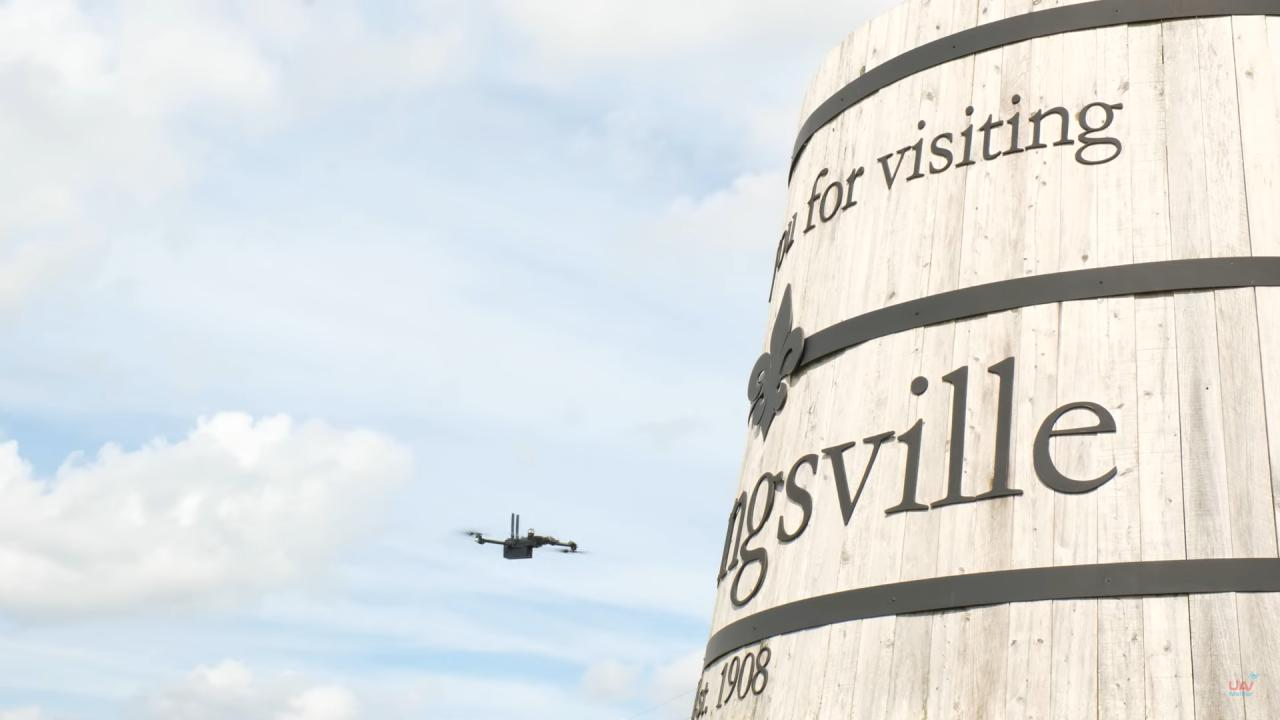Drone: (442, 500, 604, 574)
